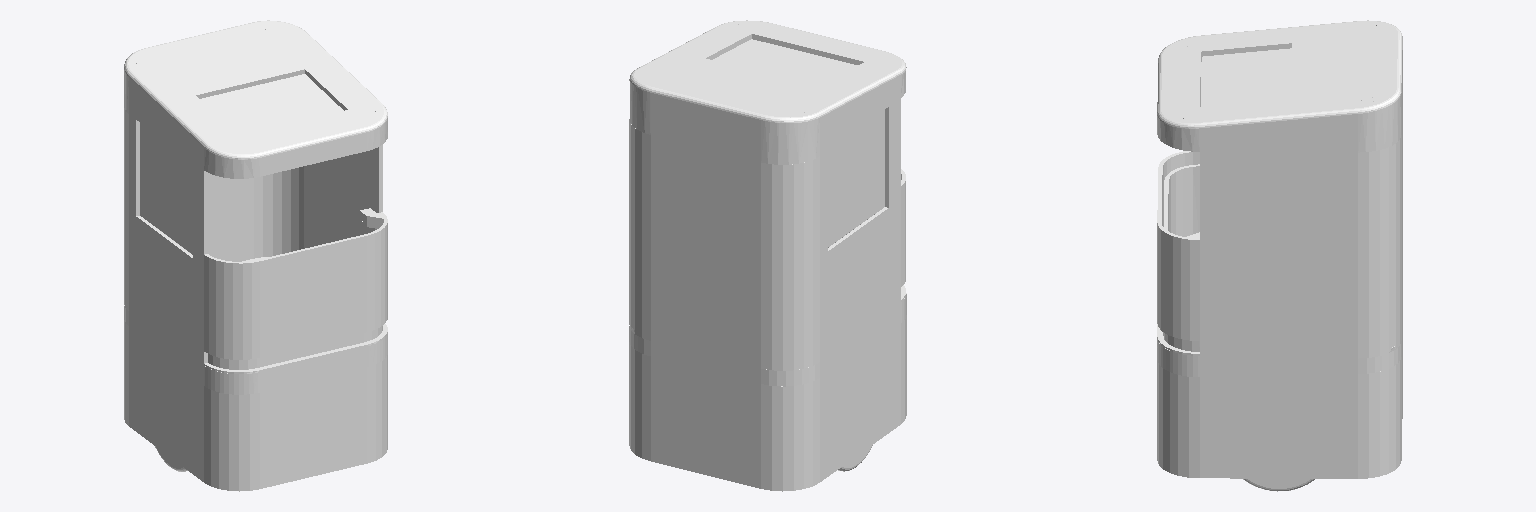
URDF robot description (Ensamblaje de JPAC2.SLDASM):
<?xml version="1.0" encoding="utf-8"?>
<!-- This URDF was automatically created by SolidWorks to URDF Exporter! Originally created by [author] ([email redacted]) 
     Commit Version: 1.6.0-4-g7f85cfe  Build Version: 1.6.7995.38578
     For more information, please see http://wiki.ros.org/sw_urdf_exporter -->
<robot
  name="Ensamblaje de JPAC2.SLDASM">
  <link
    name="base_link">
    <inertial>
      <origin
        xyz="-0.35159 0.49601 -0.2331"
        rpy="0 0 0" />
      <mass
        value="19.675" />
      <inertia
        ixx="0.87681"
        ixy="-0.033759"
        ixz="-0.0074318"
        iyy="1.2689"
        iyz="0.07841"
        izz="0.84802" />
    </inertial>
    <visual>
      <origin
        xyz="0 0 0"
        rpy="0 0 0" />
      <geometry>
        <mesh
          filename="package://robot_description/meshes/visual/base_link.STL" />

      </geometry>
      <material
        name="">
        <color
          rgba="1 1 1 1" />
      </material>
    </visual>
    <collision>
      <origin
        xyz="0 0 0"
        rpy="0 0 0" />
      <geometry>
        <mesh
          filename="package://robot_description/meshes/visual/base_link.STL" />
      </geometry>
    </collision>
  </link>
  <link
    name="BaseGiratoria1_Link">
    <inertial>
      <origin
        xyz="-0.019499 0.066863 6.1062E-16"
        rpy="0 0 0" />
      <mass
        value="0.077823" />
      <inertia
        ixx="8.2437E-05"
        ixy="-2.9935E-05"
        ixz="-1.927E-20"
        iyy="4.9106E-05"
        iyz="-8.3327E-20"
        izz="9.5967E-05" />
    </inertial>
    <visual>
      <origin
        xyz="0 0 0"
        rpy="0 0 0" />
      <geometry>
        <mesh
          filename="package://robot_description/meshes/visual/BaseGiratoria1_Link.STL" />
      </geometry>
      <material
        name="">
        <color
          rgba="1 1 1 1" />
      </material>
    </visual>
    <collision>
      <origin
        xyz="0 0 0"
        rpy="0 0 0" />
      <geometry>
        <mesh
          filename="package://robot_description/meshes/visual/BaseGiratoria1_Link.STL" />
      </geometry>
    </collision>
  </link>
  <joint
    name="BaseGiratoria1_join"
    type="continuous">
    <origin
      xyz="-0.0010727 -0.151 -0.02173"
      rpy="3.1416 0 -0.0087266" />
    <parent
      link="base_link" />
    <child
      link="BaseGiratoria1_Link" />
    <axis
      xyz="0 0 -1" />
    <limit
      effort="100"
      velocity="100" />
    <dynamics
      damping="0.1"
      friction="0.1" />
  </joint>
  <link
    name="Ruedita1_Link">
    <inertial>
      <origin
        xyz="-5.3776E-16 6.9389E-16 1.1102E-15"
        rpy="0 0 0" />
      <mass
        value="0.18473" />
      <inertia
        ixx="0.00013393"
        ixy="1.6941E-20"
        ixz="1.135E-19"
        iyy="0.00013393"
        iyz="-1.5638E-19"
        izz="0.00025301" />
    </inertial>
    <visual>
      <origin
        xyz="0 0 0"
        rpy="0 0 0" />
      <geometry>
        <mesh
          filename="package://robot_description/meshes/visual/Ruedita1_Link.STL" />
      </geometry>
      <material
        name="">
        <color
          rgba="1 1 1 1" />
      </material>
    </visual>
    <collision>
      <origin
        xyz="0 0 0"
        rpy="0 0 0" />
      <geometry>
        <mesh
          filename="package://robot_description/meshes/visual/Ruedita1_Link.STL" />
      </geometry>
    </collision>
  </link>
  <joint
    name="Ruedita1_join"
    type="continuous">
    <origin
      xyz="-0.00024393 0.037257 0.06718"
      rpy="-1.5708 0 -1.5708" />
    <parent
      link="BaseGiratoria1_Link" />
    <child
      link="Ruedita1_Link" />
    <axis
      xyz="-0.006547 0 0.99998" />
    <limit
      effort="100"
      velocity="100" />
    <dynamics
      damping="0.1"
      friction="0.1" />
  </joint>
  <link
    name="BaseGiratoria2_Link">
    <inertial>
      <origin
        xyz="-0.019499 0.066863 -6.1617E-15"
        rpy="0 0 0" />
      <mass
        value="0.077823" />
      <inertia
        ixx="8.2437E-05"
        ixy="-2.9935E-05"
        ixz="-4.863E-19"
        iyy="4.9106E-05"
        iyz="-1.109E-18"
        izz="9.5967E-05" />
    </inertial>
    <visual>
      <origin
        xyz="0 0 0"
        rpy="0 0 0" />
      <geometry>
        <mesh
          filename="package://robot_description/meshes/visual/BaseGiratoria2_Link.STL" />
      </geometry>
      <material
        name="">
        <color
          rgba="1 1 1 1" />
      </material>
    </visual>
    <collision>
      <origin
        xyz="0 0 0"
        rpy="0 0 0" />
      <geometry>
        <mesh
          filename="package://robot_description/meshes/visual/BaseGiratoria2_Link.STL" />
      </geometry>
    </collision>
  </link>
  <joint
    name="BaseGiratoria2_join"
    type="continuous">
    <origin
      xyz="0.0015627 0.15099 -0.02173"
      rpy="-3.1416 0 3.1329" />
    <parent
      link="base_link" />
    <child
      link="BaseGiratoria2_Link" />
    <axis
      xyz="0 0 -1" />
    <limit
      effort="100"
      velocity="100" />
    <dynamics
      damping="0.1"
      friction="0.1" />
  </joint>
  <link
    name="Ruedita2_Link">
    <inertial>
      <origin
        xyz="0 -3.7956E-15 5.2736E-15"
        rpy="0 0 0" />
      <mass
        value="0.18473" />
      <inertia
        ixx="0.00013393"
        ixy="8.4703E-22"
        ixz="-3.1324E-19"
        iyy="0.00013393"
        iyz="1.6439E-19"
        izz="0.00025301" />
    </inertial>
    <visual>
      <origin
        xyz="0 0 0"
        rpy="0 0 0" />
      <geometry>
        <mesh
          filename="package://robot_description/meshes/visual/Ruedita2_Link.STL" />
      </geometry>
      <material
        name="">
        <color
          rgba="1 1 1 1" />
      </material>
    </visual>
    <collision>
      <origin
        xyz="0 0 0"
        rpy="0 0 0" />
      <geometry>
        <mesh
          filename="package://robot_description/meshes/visual/Ruedita2_Link.STL" />
      </geometry>
    </collision>
  </link>
  <joint
    name="Ruedita2_join"
    type="continuous">
    <origin
      xyz="0.00010817 0.037258 0.06718"
      rpy="-1.5708 0 -1.5708" />
    <parent
      link="BaseGiratoria2_Link" />
    <child
      link="Ruedita2_Link" />
    <axis
      xyz="-0.0029034 0 -1" />
  </joint>
  <link
    name="RuedaDerecha_Link">
    <inertial>
      <origin
        xyz="5.0238E-15 -0.038139 -6.8834E-15"
        rpy="0 0 0" />
      <mass
        value="3.6915" />
      <inertia
        ixx="0.016926"
        ixy="-1.7711E-16"
        ixz="1.8518E-16"
        iyy="0.030842"
        iyz="-1.4976E-17"
        izz="0.016926" />
    </inertial>
    <visual>
      <origin
        xyz="0 0 0"
        rpy="0 0 0" />
      <geometry>
        <mesh
          filename="package://robot_description/meshes/visual/RuedaDerecha_Link.STL" />
      </geometry>
      <material
        name="">
        <color
          rgba="1 1 1 1" />
      </material>
    </visual>
    <collision>
      <origin
        xyz="0 0 0"
        rpy="0 0 0" />
      <geometry>
        <mesh
          filename="package://robot_description/meshes/visual/RuedaDerecha_Link.STL" />
      </geometry>
    </collision>
  </link>
  <joint
    name="RuedaDerecha_join"
    type="continuous">
    <origin
      xyz="0.24575 -0.0021388 -0.016"
      rpy="1.5708 0 1.5621" />
    <parent
      link="base_link" />
    <child
      link="RuedaDerecha_Link" />
    <axis
      xyz="0 0 1" />
    <limit
      effort="100"
      velocity="100" />
    <dynamics
      damping="0.1"
      friction="0.1" />
  </joint>
  <link
    name="RuedaIzquierda_Link">
    <inertial>
      <origin
        xyz="0 0 0"
        rpy="0 0 0" />
      <mass
        value="0" />
      <inertia
        ixx="0"
        ixy="0"
        ixz="0"
        iyy="0"
        iyz="0"
        izz="0" />
    </inertial>
    <visual>
      <origin
        xyz="0 0 0"
        rpy="0 0 0" />
      <geometry>
        <mesh
          filename="package://robot_description/meshes/visual/RuedaIzquierda_Link.STL" />
      </geometry>
      <material
        name="">
        <color
          rgba="1 1 1 1" />
      </material>
    </visual>
    <collision>
      <origin
        xyz="0 0 0"
        rpy="0 0 0" />
      <geometry>
        <mesh
          filename="package://robot_description/meshes/visual/RuedaIzquierda_Link.STL" />
      </geometry>
    </collision>
  </link>
  <joint
    name="RuedaIzqierda_join"
    type="continuous">
    <origin
      xyz="-0.139283853258101 0.00121570580084043 -0.0160000000000005"
      rpy="1.5707963267949 0 -1.57952297305487" />
    <parent
      link="base_link" />
    <child
      link="RuedaIzquierda_Link" />
    <axis
      xyz="0 0 1" /> <!-- AQUÍ EL CAMBIO -->
    <limit
      effort="100"
      velocity="100" />
    <dynamics
      damping="0.1"
      friction="0.1" />
  </joint>
</robot>

--- Render facts (derived) ---
Views: 3 orthographic renders of the robot side by side, from view 1: azimuth 30°, elevation 25°; view 2: azimuth 150°, elevation 25°; view 3: azimuth 270°, elevation 25°.
Model Ensamblaje de JPAC2.SLDASM with 7 links and 6 joints (6 continuous), rooted at base_link, posed all joints at 0.
Links seen in each view (by area): view 1: base_link; view 2: base_link; view 3: base_link, RuedaDerecha_Link.
Link boxes in pixels (x1,y1,x2,y2): base_link: (124, 20, 387, 491); base_link: (629, 20, 906, 491); base_link: (1157, 20, 1402, 478); RuedaDerecha_Link: (1243, 479, 1314, 491).
Size in the robot's own frame: 0.5032 by 0.5726 by 0.9988 metres.
Meshes: 7 distinct files referenced, 7 mesh visuals loaded (7 binary STL).
